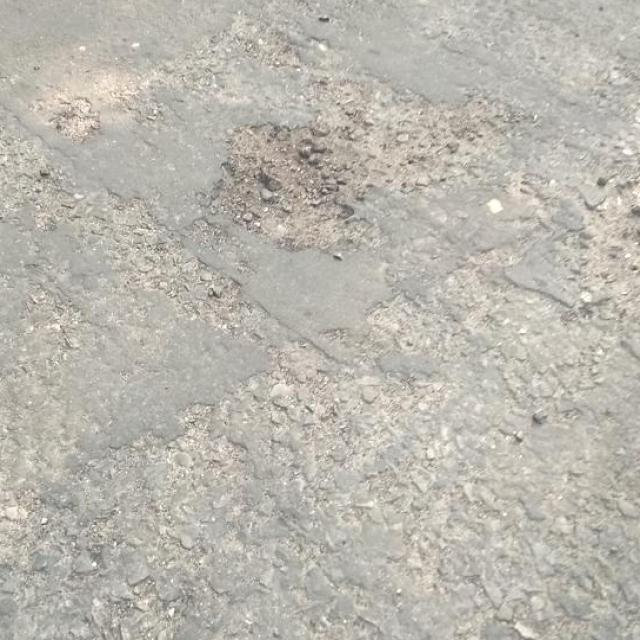road-pothole: (194, 71, 516, 255)
